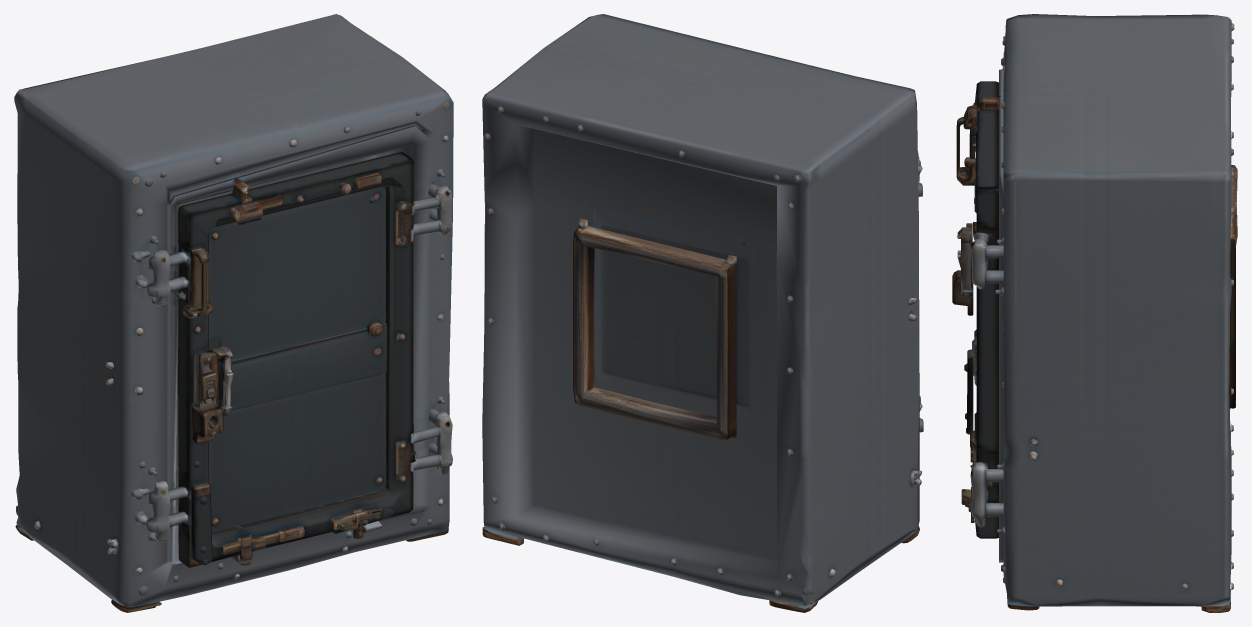
The model's file is bunker+door+3d+model.glb.
3 views of the same model, side by side, from view 1: azimuth 30°, elevation 25°; view 2: azimuth 150°, elevation 25°; view 3: azimuth 270°, elevation 25° (orthographic).
Parts seen in each view (by area): view 1: tripo_node_ea8a3674-33fa-4ff3-82b1-3ec723af9f06; view 2: tripo_node_ea8a3674-33fa-4ff3-82b1-3ec723af9f06; view 3: tripo_node_ea8a3674-33fa-4ff3-82b1-3ec723af9f06.
Part boxes in pixels (bbox=[...]): tripo_node_ea8a3674-33fa-4ff3-82b1-3ec723af9f06: bbox=[14, 14, 453, 612]; tripo_node_ea8a3674-33fa-4ff3-82b1-3ec723af9f06: bbox=[482, 14, 923, 612]; tripo_node_ea8a3674-33fa-4ff3-82b1-3ec723af9f06: bbox=[952, 14, 1237, 612].
Bounding box in the file's own units: 0.7974 × 0.9995 × 0.5835.
Materials: 1 (1 with a texture image).
